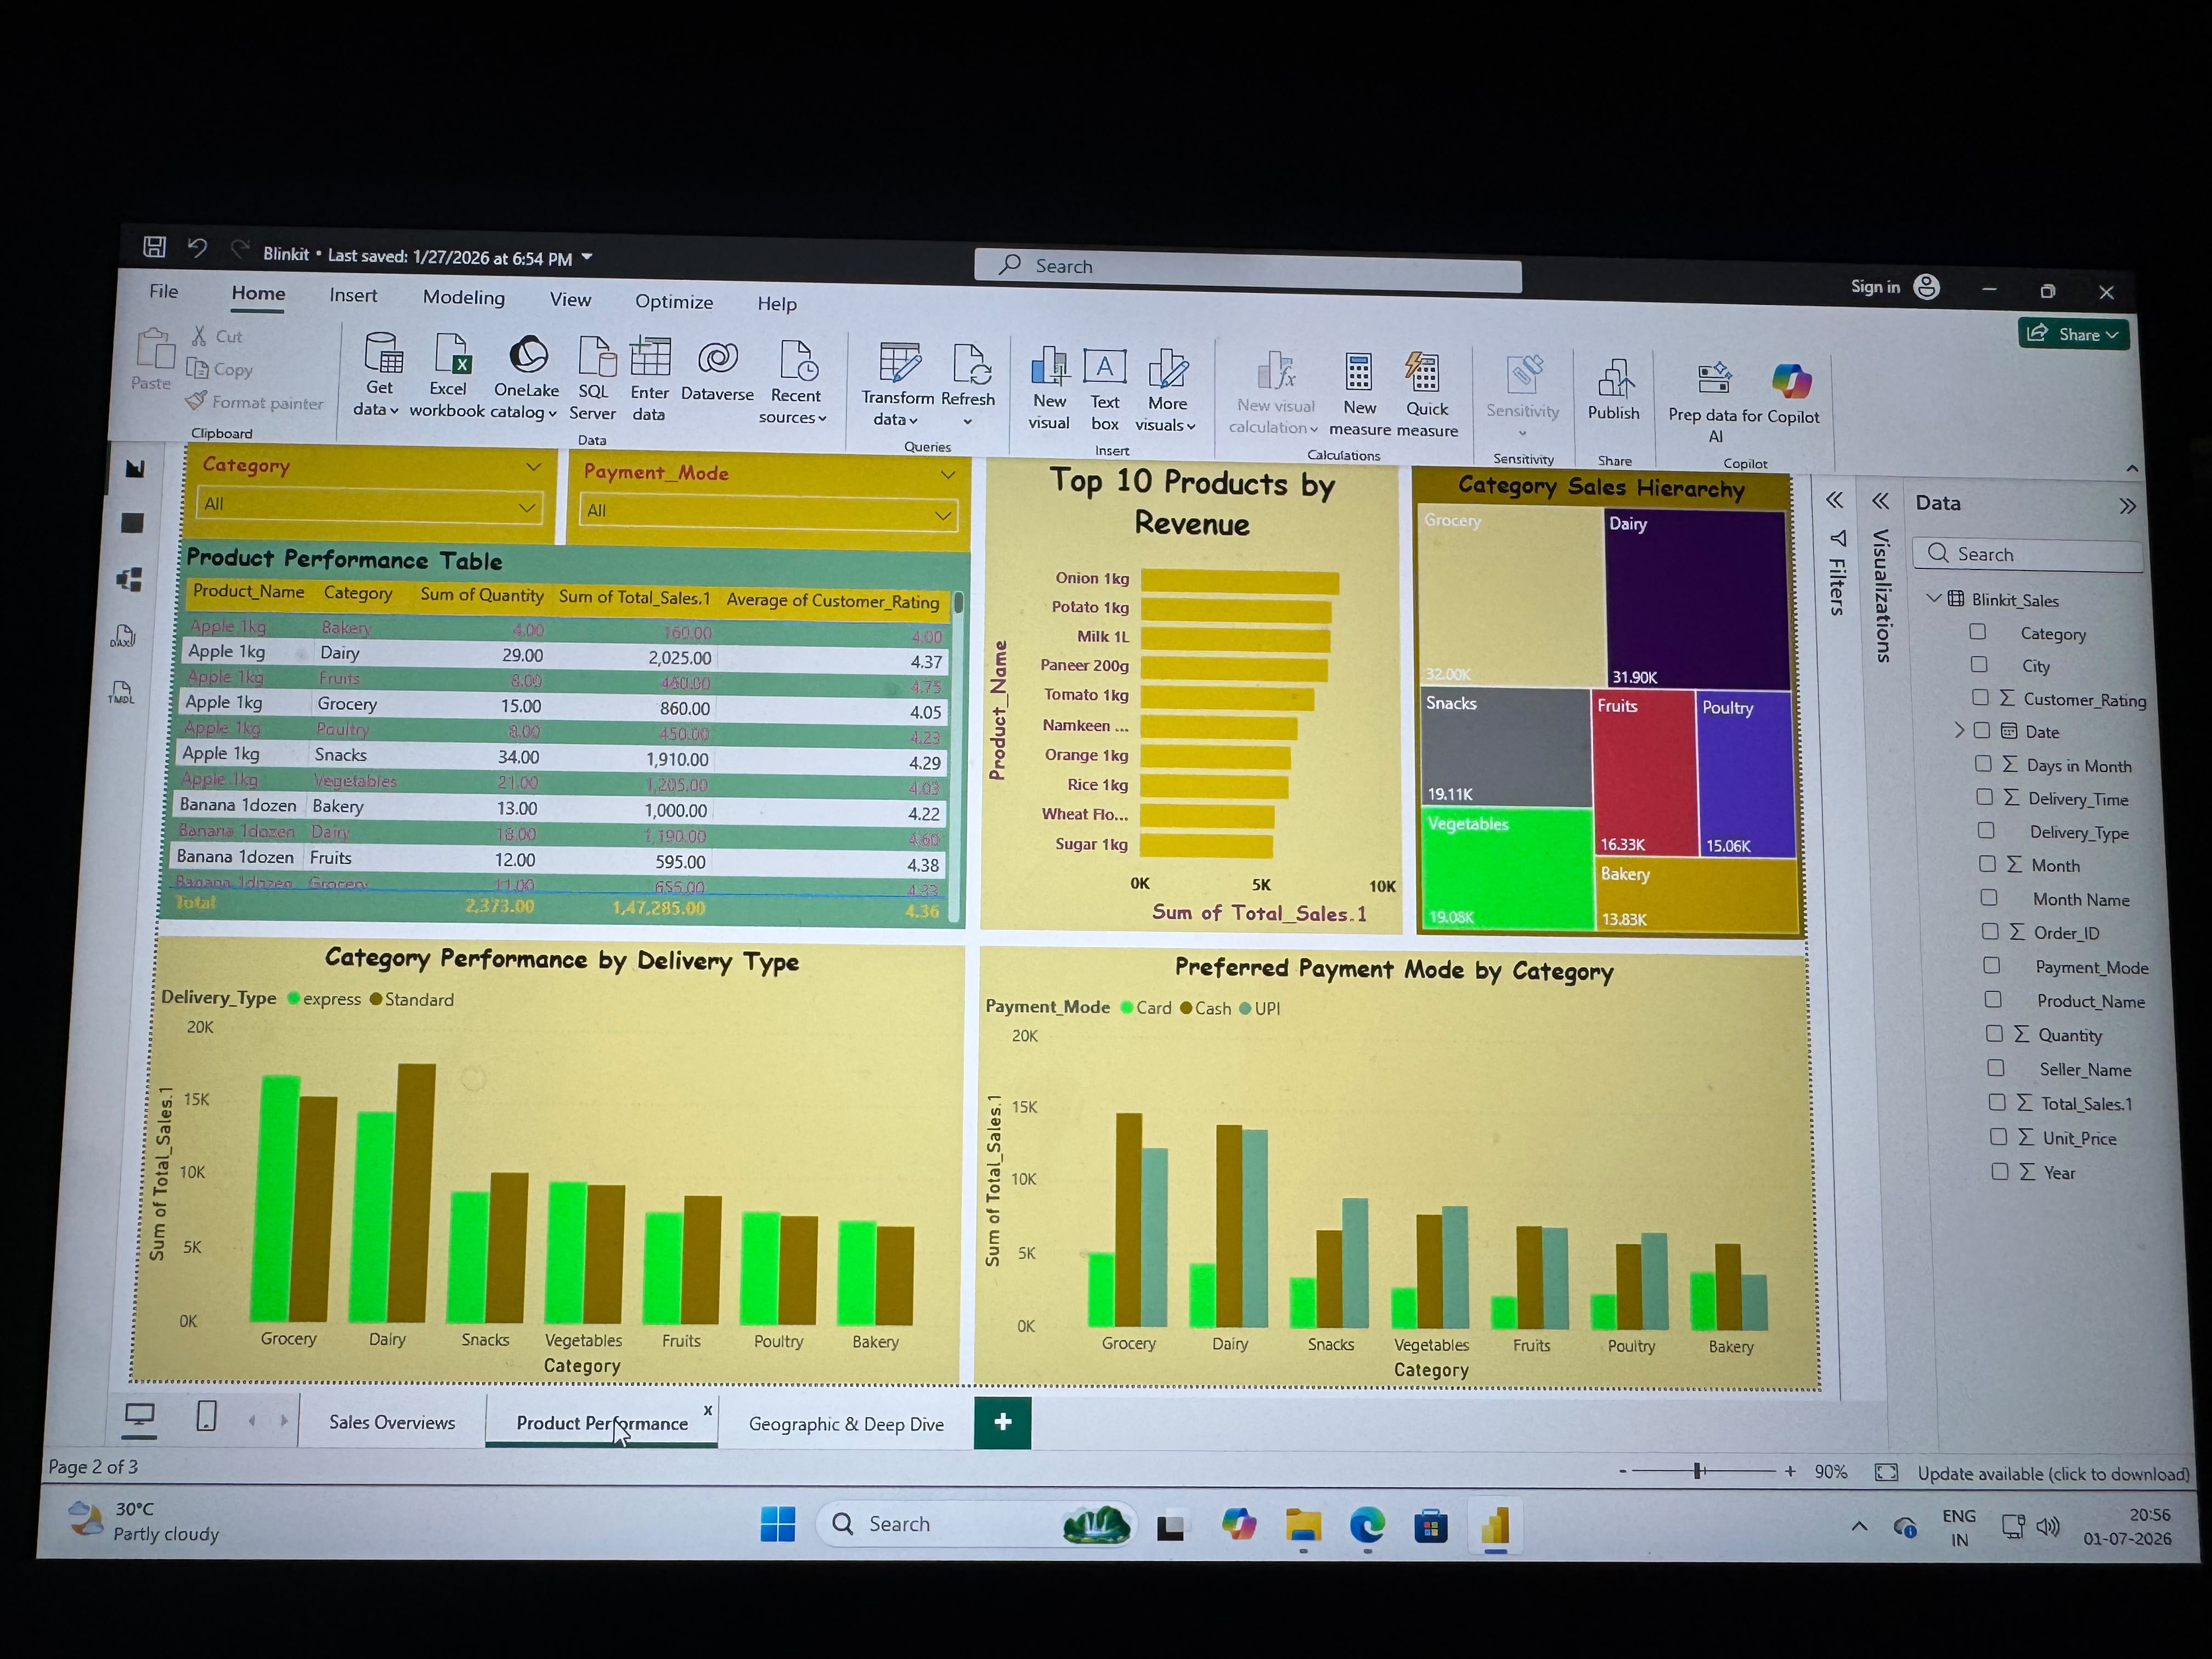

Layout of this report page (visuals, bound fields, positions):
{"tool":"powerbi","page":{"name":"Product Performance","canvas":[1280,720],"ordinal":1},"visuals":[{"type":"tableEx","title":"Product Performance Table","fields":{"Values":["Blinkit_Sales.Product_Name","Blinkit_Sales.Category","Sum(Blinkit_Sales.Quantity)","Sum(Blinkit_Sales.Total_Sales.1)","Avg(Blinkit_Sales.Customer_Rating)"]},"box":[0,78,619,298.3],"z":0},{"type":"slicer","fields":{"Values":["Blinkit_Sales.Category"]},"box":[0,0,290.9,78],"z":1},{"type":"slicer","fields":{"Values":["Blinkit_Sales.Payment_Mode"]},"box":[299.6,0,319.4,78],"z":2},{"type":"clusteredBarChart","title":"Top 10 Products by Revenue","fields":{"Y":["Sum(Blinkit_Sales.Total_Sales.1)"],"Category":["Blinkit_Sales.Product_Name"]},"box":[630.1,0,330.5,376.3],"z":3},{"type":"clusteredColumnChart","title":"Category Performance by Delivery Type","fields":{"Category":["Blinkit_Sales.Category"],"Y":["Sum(Blinkit_Sales.Total_Sales.1)"],"Series":["Blinkit_Sales.Delivery_Type"]},"box":[0,388.7,619,331.8],"z":4},{"type":"treemap","title":"Category Sales Hierarchy","fields":{"Group":["Blinkit_Sales.Category"],"Values":["Sum(Blinkit_Sales.Total_Sales.1)"]},"box":[971,0,309,376],"z":5},{"type":"clusteredColumnChart","title":"Preferred Payment Mode by Category","fields":{"Category":["Blinkit_Sales.Category"],"Y":["Sum(Blinkit_Sales.Total_Sales.1)"],"Series":["Blinkit_Sales.Payment_Mode"]},"box":[630.1,388.7,649.9,331.8],"z":6}]}

Visuals, with their boxes on the page's 1280x720 design canvas (x1, y1, x2, y2). These are canvas units, not pixel positions in the 2212x1659 screenshot, which may show the page scaled, cropped or inside an application window:
"Product Performance Table" tableEx: x1=0 y1=78 x2=619 y2=376
slicer - Blinkit_Sales.Category: x1=0 y1=0 x2=291 y2=78
slicer - Blinkit_Sales.Payment_Mode: x1=300 y1=0 x2=619 y2=78
"Top 10 Products by Revenue" clusteredBarChart: x1=630 y1=0 x2=961 y2=376
"Category Performance by Delivery Type" clusteredColumnChart: x1=0 y1=389 x2=619 y2=720
"Category Sales Hierarchy" treemap: x1=971 y1=0 x2=1280 y2=376
"Preferred Payment Mode by Category" clusteredColumnChart: x1=630 y1=389 x2=1280 y2=720
